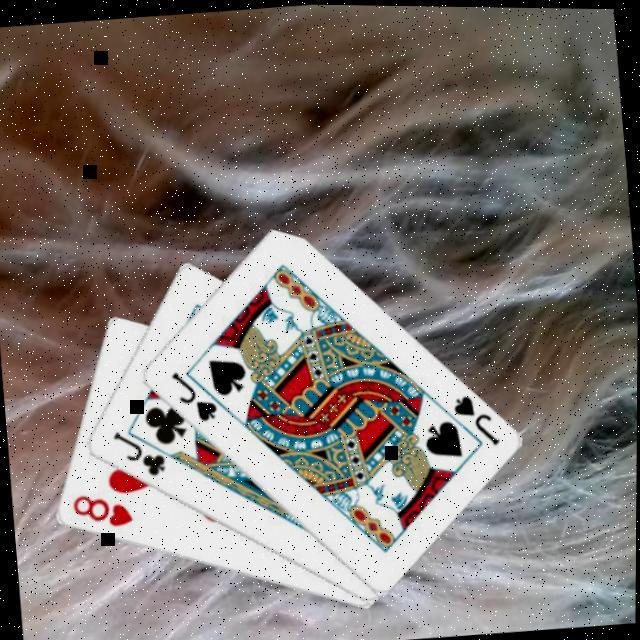8H: (68, 485, 138, 533)
JC: (110, 422, 170, 481)
JS: (449, 386, 504, 450), (168, 363, 222, 426)
